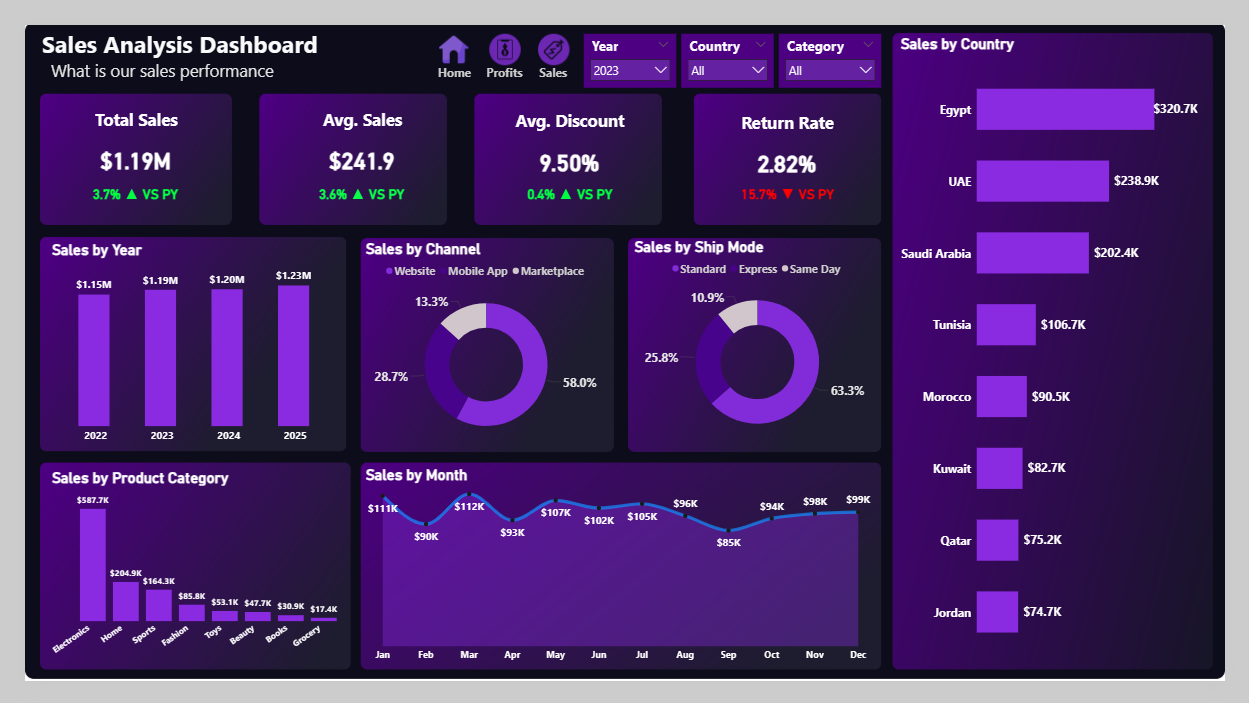

Layout of this report page (visuals, bound fields, positions):
{"tool":"powerbi","page":{"name":"Sales Dashboard","canvas":[1920,1050],"ordinal":1},"visuals":[{"type":"textbox","box":[21.7,0,536.7,103.3],"z":0},{"type":"card","fields":{"Values":["AllMeasures.TotalSales"]},"box":[22,104,310,222],"z":1000},{"type":"textbox","box":[96,128,164,50],"z":2000},{"type":"card","fields":{"Values":["AllMeasures.AvgSale"]},"box":[384,104,310,222],"z":3000},{"type":"textbox","box":[446,128,188,50],"z":4000},{"type":"card","fields":{"Values":["AllMeasures.AvgDiscount"]},"box":[716,106,310,222],"z":5000},{"type":"textbox","box":[774,130,196,50],"z":6000},{"type":"card","fields":{"Values":["AllMeasures.ReturnRate"]},"box":[1064,108,310,222],"z":7000},{"type":"textbox","box":[1122,132,196,50],"z":8000},{"type":"donutChart","title":"Sales by Channel","fields":{"Category":["Dim_Channel.Channel"],"Y":["AllMeasures.TotalSales"]},"box":[540,344,396,338],"z":9000},{"type":"donutChart","title":"Sales by Ship Mode","fields":{"Category":["Dim_ShipMode.ShipMode"],"Y":["AllMeasures.TotalSales"]},"box":[970,340,404,338],"z":10000},{"type":"lineChart","title":"Sales by Month","fields":{"Category":["Dim_Date.Month Name"],"Y":["AllMeasures.TotalSales"]},"box":[540,706,826,322],"z":11000},{"type":"clusteredColumnChart","title":"Sales by Year","fields":{"Category":["Dim_Date.Year"],"Y":["AllMeasures.TotalSales"]},"box":[38,346,470,332],"z":12000},{"type":"clusteredColumnChart","title":"Sales by Product Category","fields":{"Category":["Dim_Product.Category"],"Y":["AllMeasures.TotalSales"]},"box":[38,710,488,316],"z":13000},{"type":"slicer","fields":{"Values":["Dim_Customer.Country"]},"box":[1050,14,148,86],"z":14000},{"type":"slicer","fields":{"Values":["Dim_Product.Category"]},"box":[1206,14,164,86],"z":15000},{"type":"slicer","fields":{"Values":["Dim_Date.Year"]},"box":[894,14,148,86],"z":16000},{"type":"clusteredBarChart","title":"Sales by Country","fields":{"Category":["Dim_Customer.Country"],"Y":["AllMeasures.TotalSales"]},"box":[1395.1,16.2,485.4,1010.3],"z":17000},{"type":"image","box":[636.8,14.3,100,50],"z":18000,"group":"g3"},{"type":"group","id":"g1","title":"Group 2","box":[793.2,14.3,102,102],"z":19000},{"type":"group","id":"g2","title":"Group 3","box":[716.4,14.3,102,102],"z":20000},{"type":"image","box":[718.4,14.3,100,50],"z":20000,"group":"g2"},{"type":"group","id":"g3","title":"Group 4","box":[636.8,14.3,102,102],"z":21000},{"type":"image","box":[795.2,14.3,100,50],"z":21000,"group":"g1"},{"type":"textbox","box":[636.8,58.3,102,58],"z":22000,"group":"g3"},{"type":"card","fields":{"Values":["AllMeasures.T.SalesYOYpct"]},"box":[58,238,238,66],"z":22000},{"type":"textbox","box":[716.4,58.3,102,58],"z":23000,"group":"g2"},{"type":"card","fields":{"Values":["AllMeasures.AvgSalesYOYpct"]},"box":[416,238,246,66],"z":23000},{"type":"textbox","box":[793.2,58.3,102,58],"z":24000,"group":"g1"},{"type":"card","fields":{"Values":["AllMeasures.AvgDiscountYOYpct"]},"box":[746,238,252,66],"z":24000},{"type":"card","fields":{"Values":["AllMeasures.RetuenRateYOYpct"]},"box":[1094,238,252,66],"z":25000}]}

Visuals, with their boxes in screenshot pixels (x1, y1, x2, y2), scaled from the page's 1920x1050 canvas onto the 1249x703 screenshot:
textbox: locate(14, 0, 363, 69)
card - AllMeasures.TotalSales: locate(14, 70, 216, 218)
textbox: locate(62, 86, 169, 119)
card - AllMeasures.AvgSale: locate(250, 70, 451, 218)
textbox: locate(290, 86, 412, 119)
card - AllMeasures.AvgDiscount: locate(466, 71, 667, 220)
textbox: locate(504, 87, 631, 121)
card - AllMeasures.ReturnRate: locate(692, 72, 894, 221)
textbox: locate(730, 88, 857, 122)
"Sales by Channel" donutChart: locate(351, 230, 609, 457)
"Sales by Ship Mode" donutChart: locate(631, 228, 894, 454)
"Sales by Month" lineChart: locate(351, 473, 889, 688)
"Sales by Year" clusteredColumnChart: locate(25, 232, 330, 454)
"Sales by Product Category" clusteredColumnChart: locate(25, 475, 342, 687)
slicer - Dim_Customer.Country: locate(683, 9, 779, 67)
slicer - Dim_Product.Category: locate(785, 9, 891, 67)
slicer - Dim_Date.Year: locate(582, 9, 678, 67)
"Sales by Country" clusteredBarChart: locate(908, 11, 1223, 687)
image: locate(414, 10, 479, 43)
"Group 2" group: locate(516, 10, 582, 78)
"Group 3" group: locate(466, 10, 532, 78)
image: locate(467, 10, 532, 43)
"Group 4" group: locate(414, 10, 481, 78)
image: locate(517, 10, 582, 43)
textbox: locate(414, 39, 481, 78)
card - AllMeasures.T.SalesYOYpct: locate(38, 159, 193, 204)
textbox: locate(466, 39, 532, 78)
card - AllMeasures.AvgSalesYOYpct: locate(271, 159, 431, 204)
textbox: locate(516, 39, 582, 78)
card - AllMeasures.AvgDiscountYOYpct: locate(485, 159, 649, 204)
card - AllMeasures.RetuenRateYOYpct: locate(712, 159, 876, 204)
